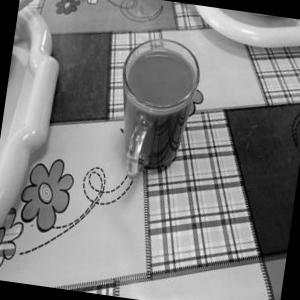coffee: (99, 26, 215, 192)
